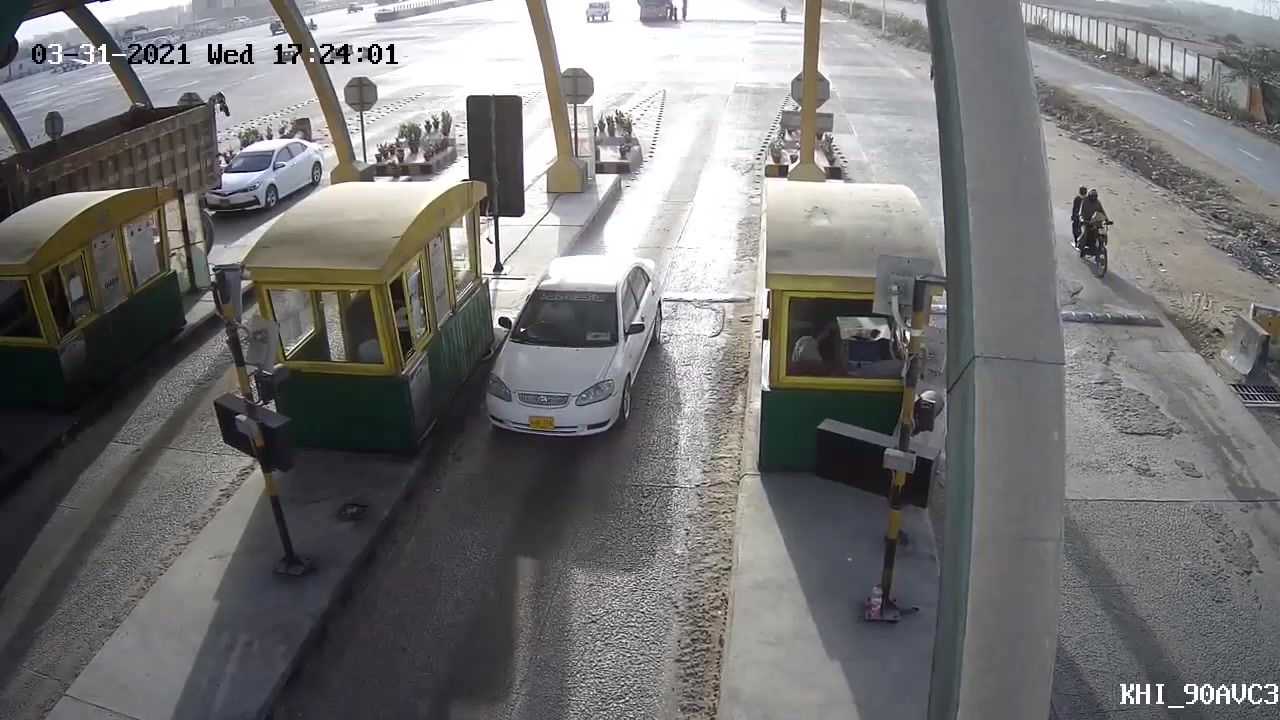F1: (479, 244, 673, 447)
